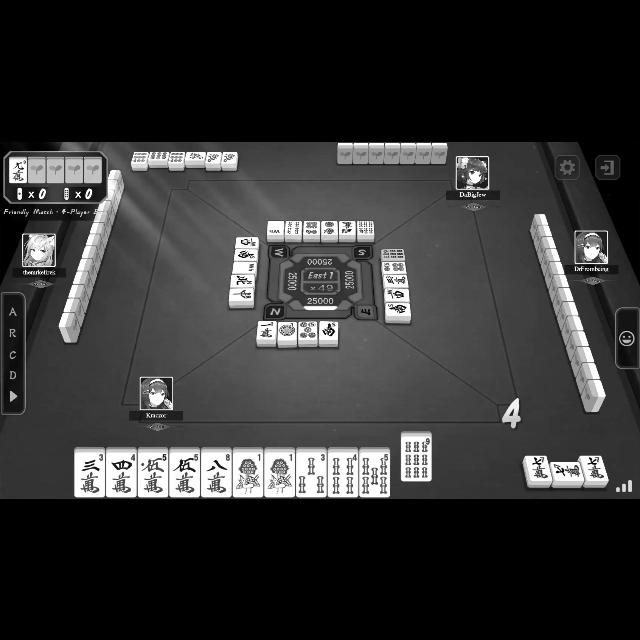1m: (258, 320, 276, 338)
1p: (280, 322, 296, 340)
1s: (235, 452, 263, 496), (266, 452, 294, 494)
2p: (321, 220, 337, 234)
3m: (76, 454, 104, 494), (384, 274, 408, 286), (340, 221, 356, 235)
3s: (297, 454, 327, 494)
4m: (108, 454, 136, 494)
4s: (328, 452, 358, 493), (286, 220, 300, 234)
5m: (170, 453, 200, 495), (140, 454, 168, 494)
5p: (300, 322, 316, 338)
5s: (362, 452, 388, 493)
6p: (382, 262, 408, 272), (303, 220, 319, 234)
6s: (359, 220, 373, 234)
7m: (526, 455, 548, 479), (584, 456, 604, 480), (553, 463, 581, 479)
8m: (202, 452, 232, 494)
9m: (10, 159, 26, 181)
9p: (168, 152, 184, 164), (132, 152, 148, 162), (150, 150, 168, 158)
9s: (403, 436, 431, 480), (382, 248, 406, 258)
chun: (232, 288, 252, 300)
haku: (233, 262, 254, 272), (269, 220, 283, 233)
hatsu: (186, 150, 206, 160), (206, 152, 220, 162), (222, 152, 236, 162)
nan: (320, 322, 338, 338), (386, 303, 408, 315), (238, 248, 256, 260)
pe: (232, 275, 254, 287)
sha: (386, 288, 408, 300), (236, 236, 258, 248)
